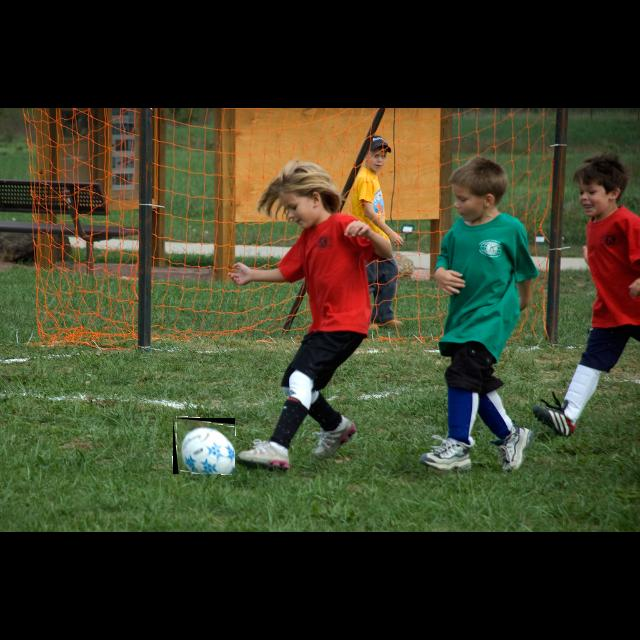Football: (173, 418, 235, 474)
